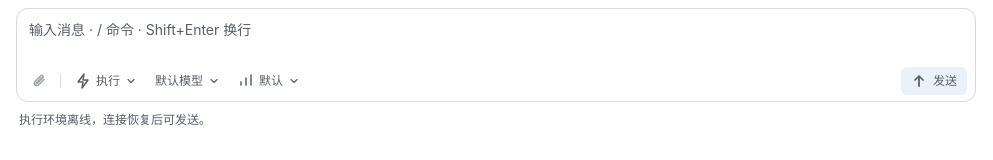
known commands retain text on failure and remain usable offline
Type "/plan" into the text box labelled "消息".
click(496, 41); type("/plan")  # box [29,19,963,63]
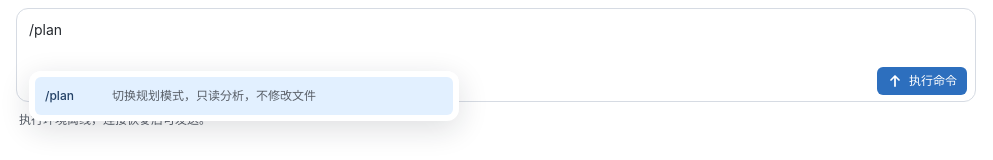
Press Enter in the text box named "消息", box [29,19,963,63]
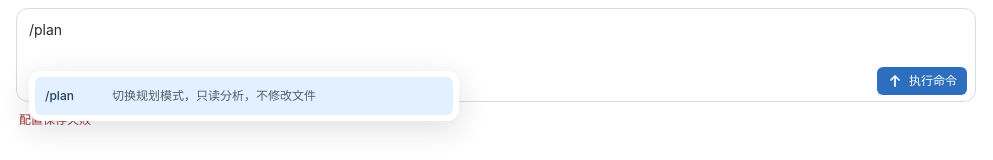
Result: the message reads "配置保存失败" at [19,112,91,127]
